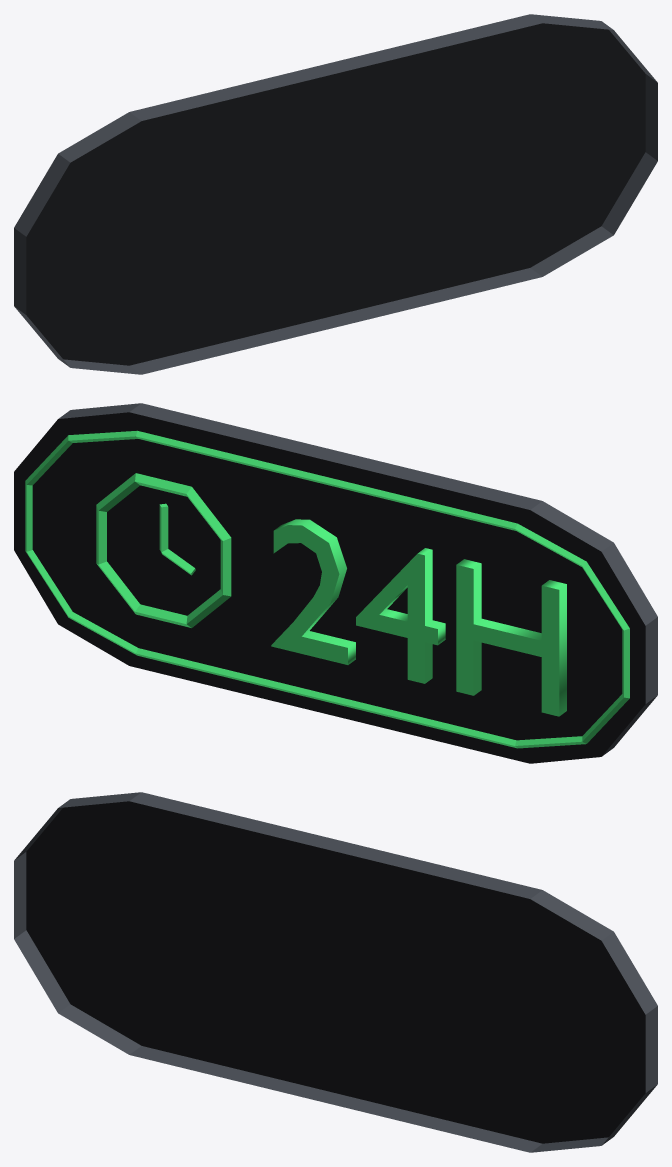
File: sign_24h.glb
3 renders of one model, top to bottom at view 1: azimuth 30°, elevation 25°; view 2: azimuth 150°, elevation 25°; view 3: azimuth 330°, elevation 25°, orthographic.
Parts seen in each view (by area): view 1: sign_24h__mesh; view 2: sign_24h__mesh; view 3: sign_24h__mesh.
Part boxes in pixels (bbox=[...]): sign_24h__mesh: bbox=[14, 14, 657, 374]; sign_24h__mesh: bbox=[14, 403, 657, 763]; sign_24h__mesh: bbox=[14, 792, 657, 1152].
Size of the model in its own units: 2.34 by 0.9 by 0.13.
Materials: 1 (1 with a texture image).
